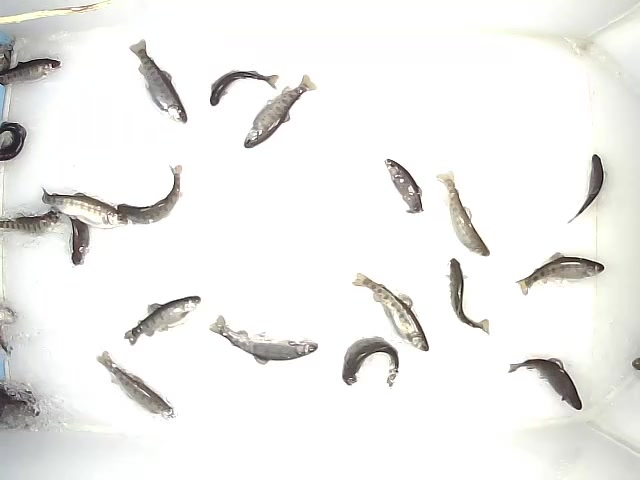fish: (348, 270, 431, 354), (241, 72, 319, 151), (206, 315, 320, 365), (94, 348, 175, 418), (127, 36, 191, 124), (434, 167, 491, 260), (110, 159, 184, 228), (508, 353, 584, 410), (39, 185, 130, 232), (121, 294, 203, 346), (516, 251, 606, 298), (444, 255, 493, 336), (341, 332, 400, 388), (562, 151, 606, 226), (209, 68, 280, 111), (381, 157, 423, 215), (1, 204, 64, 233), (61, 209, 90, 266)
